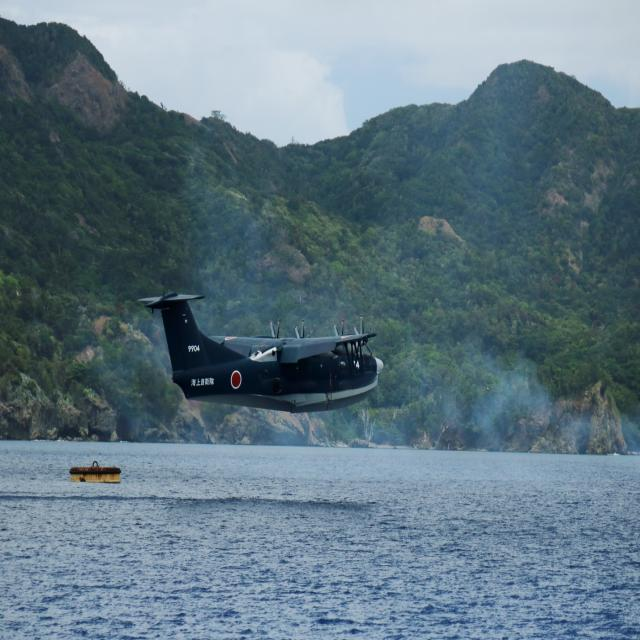MIL_Plane: (136, 290, 384, 414)
